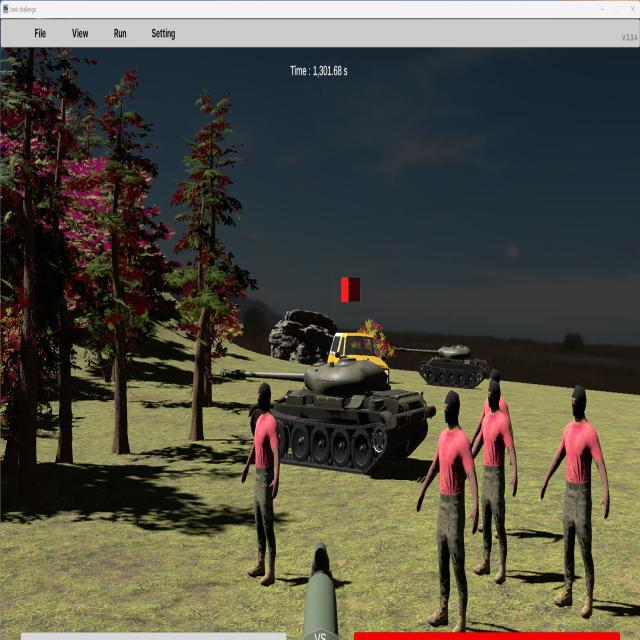Human: (539, 384, 610, 618), (416, 390, 479, 631), (462, 376, 518, 585), (241, 381, 280, 584)
Tank: (221, 357, 437, 476), (395, 343, 490, 390)
